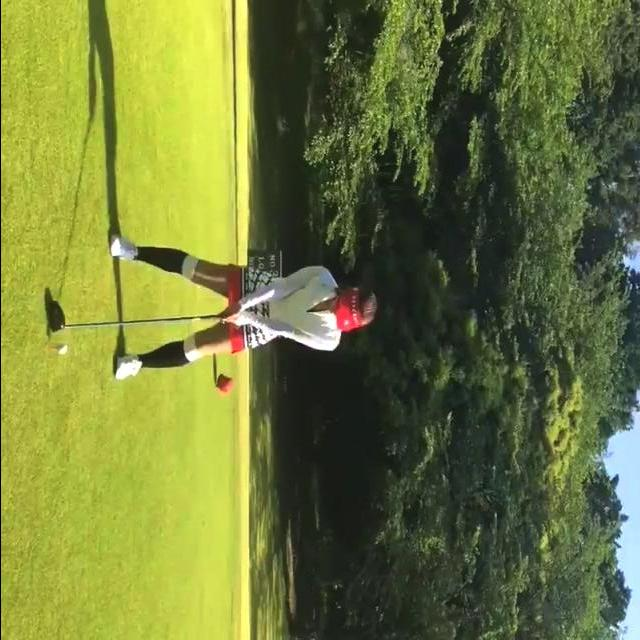golf ball: (55, 344, 69, 355)
golf club-handle: (47, 293, 226, 335)
golf club-head: (48, 299, 65, 333)
